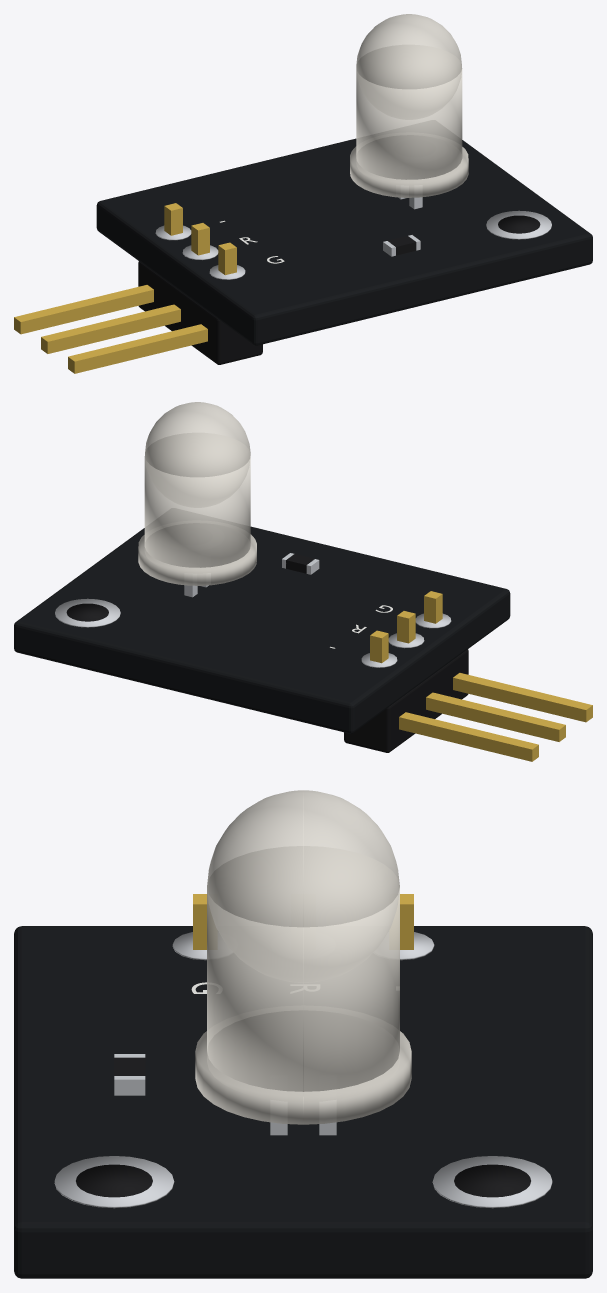
Rendered from two-color-led.glb.
3 renders of one model, top to bottom at view 1: azimuth 30°, elevation 25°; view 2: azimuth 150°, elevation 25°; view 3: azimuth 270°, elevation 25°, orthographic. The views are drawn at different scales.
Visible parts, largest first — view 1: pcb.030, led_body.007, led_dome.008, led_rim.007, header.030, pin_h.103, pin_h.104, pin_h.102, hole_ring.052, hole.052, pin_v.104, pin_v.103 (+1 smaller); view 2: pcb.030, led_body.007, led_dome.008, led_rim.007, header.030, pin_h.103, pin_h.102, pin_h.104, hole_ring.051, hole.051, pin_v.102, pin_v.103 (+1 smaller); view 3: pcb.030, led_body.007, led_dome.008, led_rim.007, hole_ring.051, hole_ring.052, hole.051, hole.052, pin_v.102, pin_v.104, smd_cap.083.
Part boxes in pixels (x1,y1,x2,y2): pcb.030: (96,138,592,345); led_body.007: (356,45,462,185); led_dome.008: (356,14,462,119); led_rim.007: (350,135,468,197); header.030: (138,261,262,364); pin_h.103: (41,304,180,353); pin_h.104: (68,324,207,373); pin_h.102: (14,285,153,334); hole_ring.052: (486,210,551,239); hole.052: (498,215,540,233); pin_v.104: (218,242,236,275); pin_v.103: (191,223,209,255); pcb.030: (14,526,510,733); led_body.007: (144,433,250,573); led_dome.008: (144,402,250,507); led_rim.007: (138,523,256,585); header.030: (344,649,468,752); pin_h.103: (426,692,565,741); pin_h.102: (399,712,538,761); pin_h.104: (453,673,592,722); hole_ring.051: (55,598,120,627); hole.051: (66,603,108,621); pin_v.102: (370,630,388,663); pin_v.103: (397,611,415,643); pcb.030: (14,926,592,1278); led_body.007: (207,846,399,1101); led_dome.008: (207,790,399,982); led_rim.007: (195,1010,411,1124); hole_ring.051: (432,1156,552,1208); hole_ring.052: (54,1156,174,1208); hole.051: (454,1164,530,1197); hole.052: (76,1164,152,1197); pin_v.102: (400,894,413,949); pin_v.104: (193,894,206,949); smd_cap.083: (114,1076,145,1095).
Size of the model in its own units: 0.0256 by 0.0136 by 0.015.
